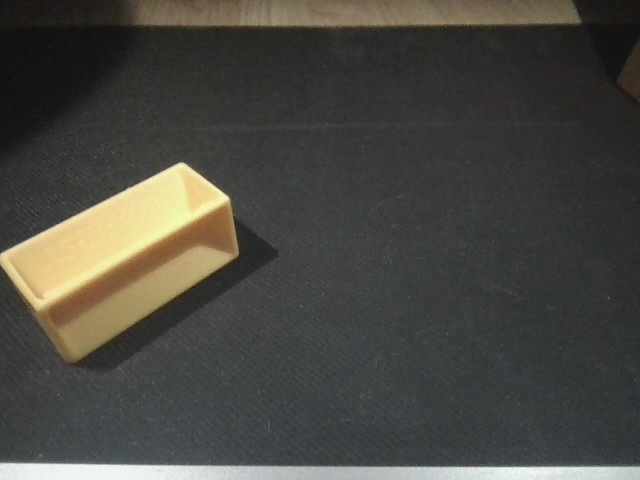YellowSample: (1, 160, 246, 367)
